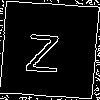Z: (24, 25, 62, 73)
